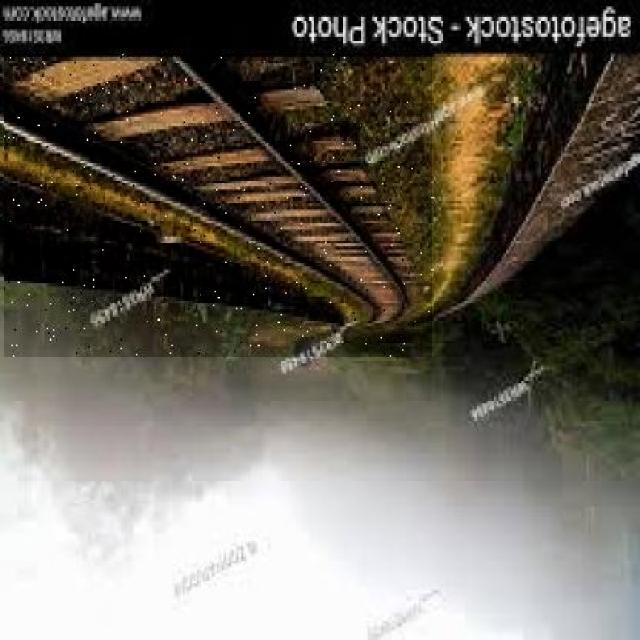rail: (5, 55, 433, 358)
